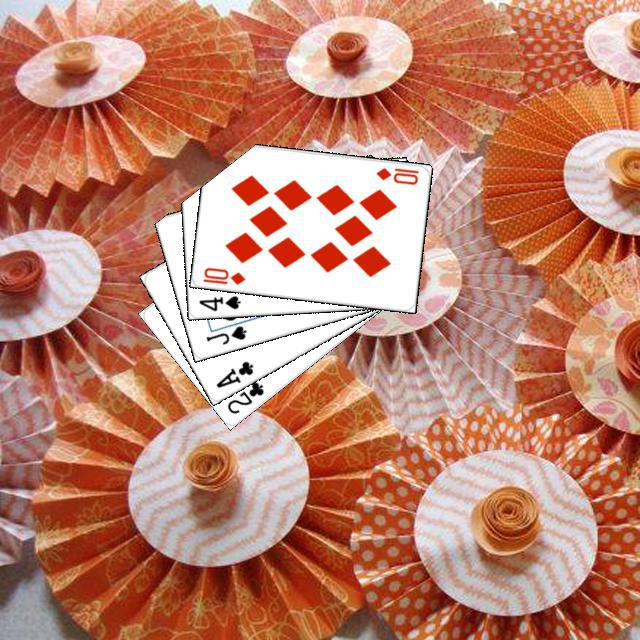10d: (198, 262, 247, 286), (371, 163, 420, 187)
2c: (222, 377, 266, 416)
4s: (194, 291, 242, 313)
Ac: (211, 356, 255, 390)
Js: (201, 321, 248, 346)
